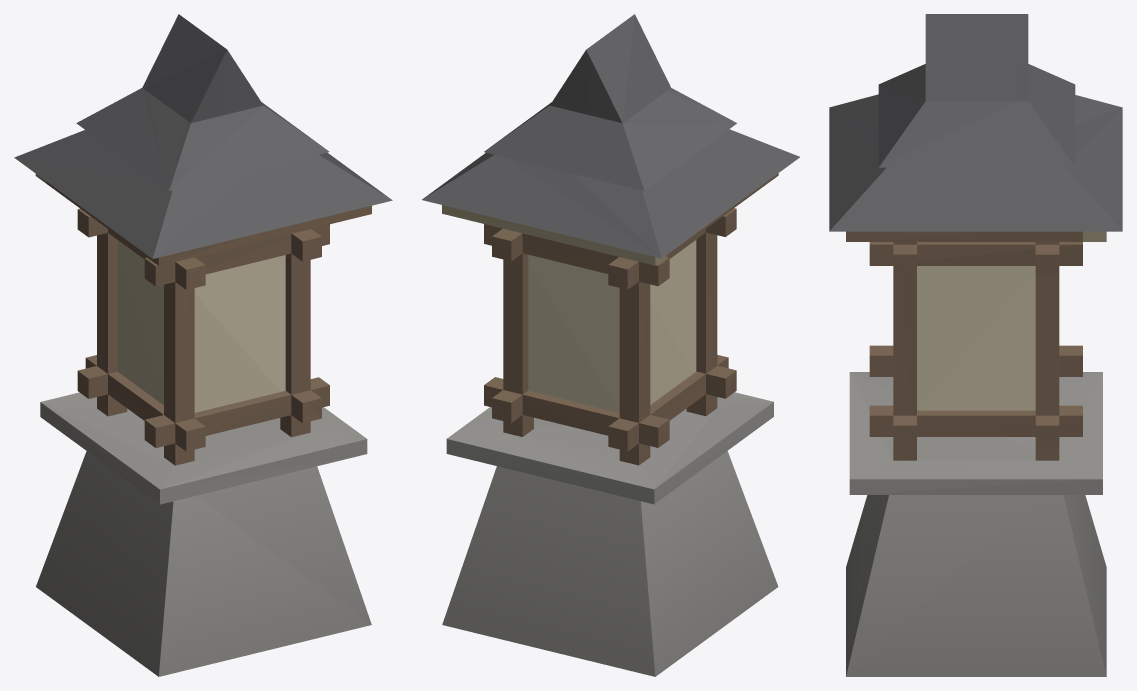
File: cn_lamp_3.glb
3 renders of one model, left to right at view 1: azimuth 30°, elevation 25°; view 2: azimuth 150°, elevation 25°; view 3: azimuth 270°, elevation 25°, orthographic. The views are drawn at different scales.
Visible parts, largest first — view 1: cn_lamp_3; view 2: cn_lamp_3; view 3: cn_lamp_3.
Part boxes in pixels (x1,y1,x2,y2): cn_lamp_3: (14, 14, 392, 676); cn_lamp_3: (422, 14, 799, 676); cn_lamp_3: (829, 14, 1122, 676).
Size of the model in its own units: 0.8321 by 1.9 by 0.8321.
